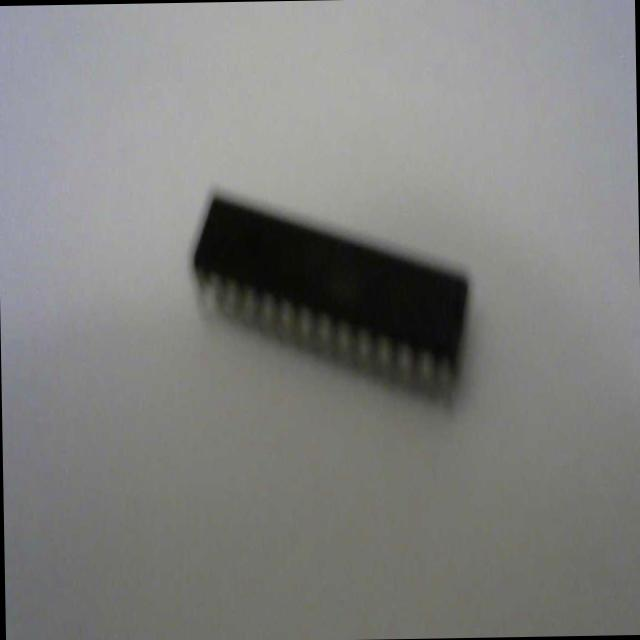atmega: (187, 180, 473, 413)
